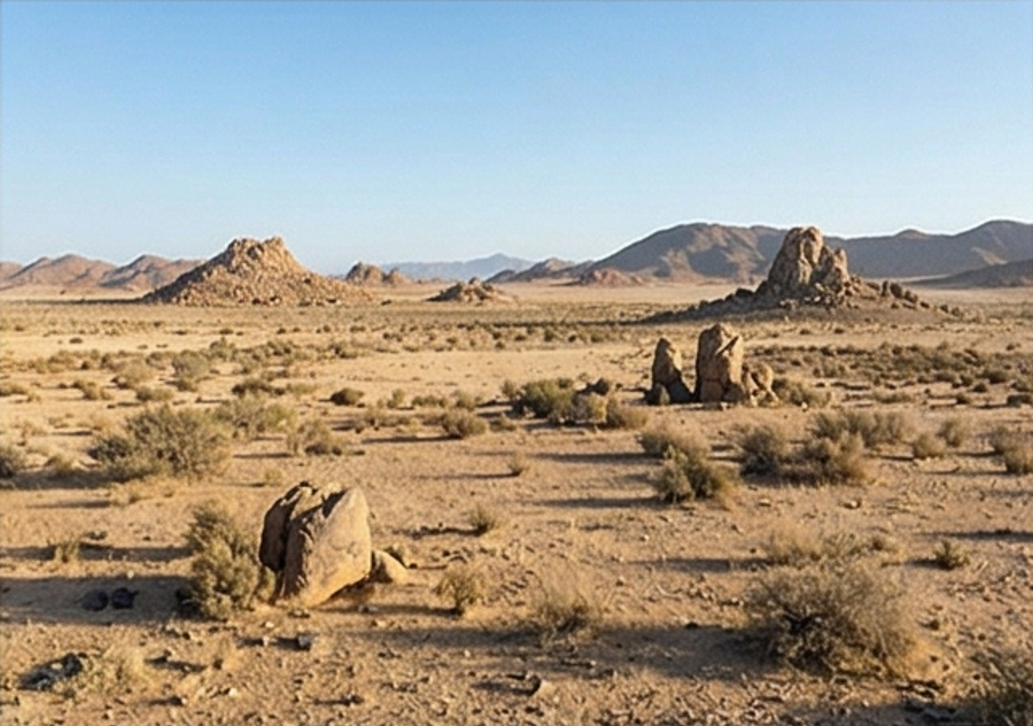rocks: (258, 482, 375, 606), (653, 323, 776, 404)
